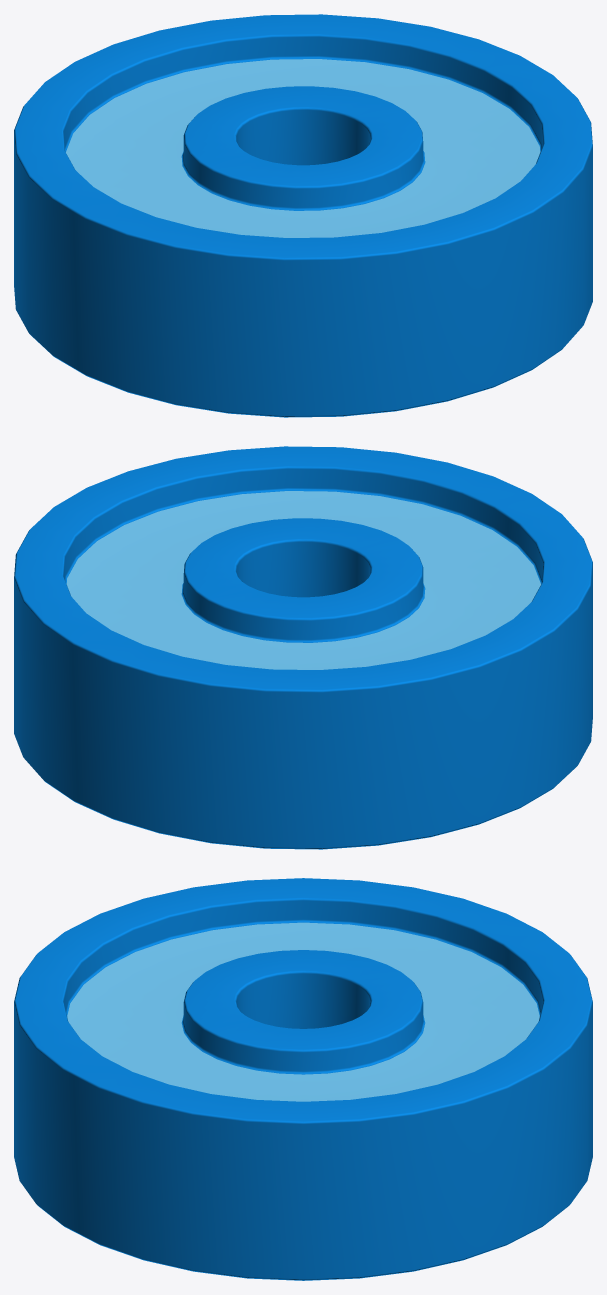
File: City_18_Weight_2.glb
3 views of the same model, one above another, from view 1: azimuth 30°, elevation 25°; view 2: azimuth 150°, elevation 25°; view 3: azimuth 270°, elevation 25° (orthographic).
Visible parts, largest first — view 1: City_18_Weight_2; view 2: City_18_Weight_2; view 3: City_18_Weight_2.
Part boxes in pixels (x1,y1,x2,y2): City_18_Weight_2: (14,14,592,417); City_18_Weight_2: (14,446,592,849); City_18_Weight_2: (14,878,592,1280).
Size of the model in its own units: 0.2923 by 0.089 by 0.2923.
1 material, 1 textured.
